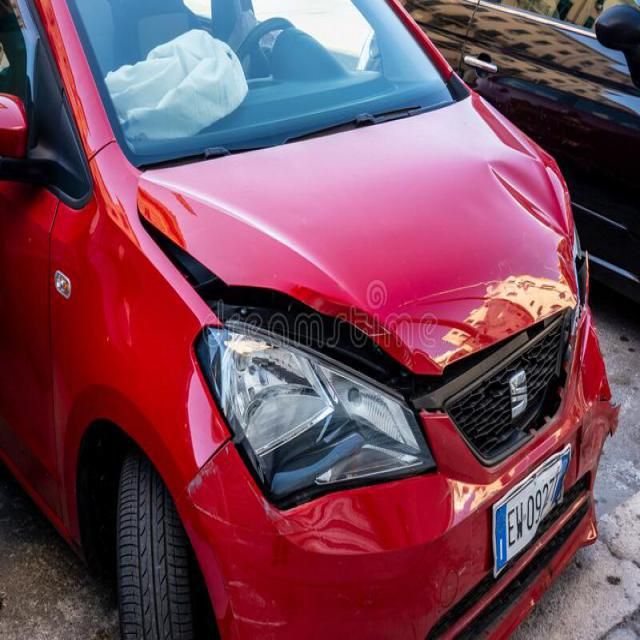bonnet-dent: (123, 175, 587, 412)
front-bumper-dent: (154, 407, 499, 638)
